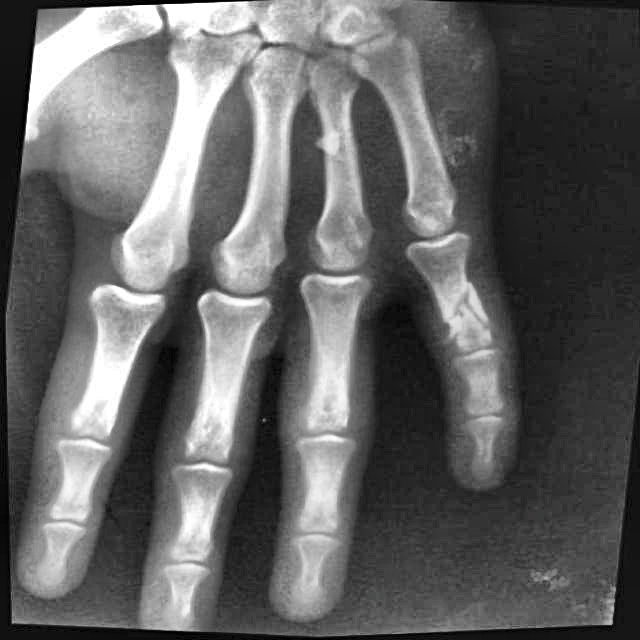Comminuted: (435, 292, 513, 358)
